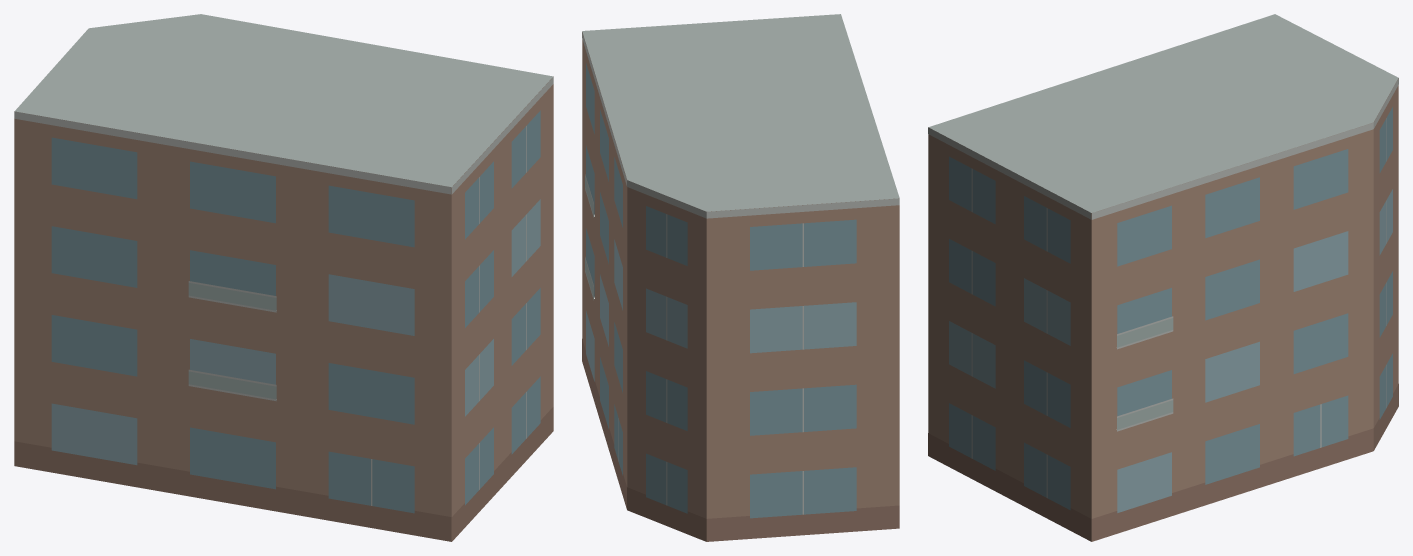
File: survey-upis-32586794.glb
3 views of the same model, side by side, from view 1: azimuth 30°, elevation 25°; view 2: azimuth 150°, elevation 25°; view 3: azimuth 270°, elevation 25° (orthographic). The views are drawn at different scales.
Visible parts, largest first — view 1: survey-upis-32586794.tmp; view 2: survey-upis-32586794.tmp; view 3: survey-upis-32586794.tmp.
Part boxes in pixels (x1,y1,x2,y2): survey-upis-32586794.tmp: (14,14,553,541); survey-upis-32586794.tmp: (582,14,899,541); survey-upis-32586794.tmp: (928,14,1398,541).
Size of the model in its own units: 15.27 by 11.75 by 15.25.
